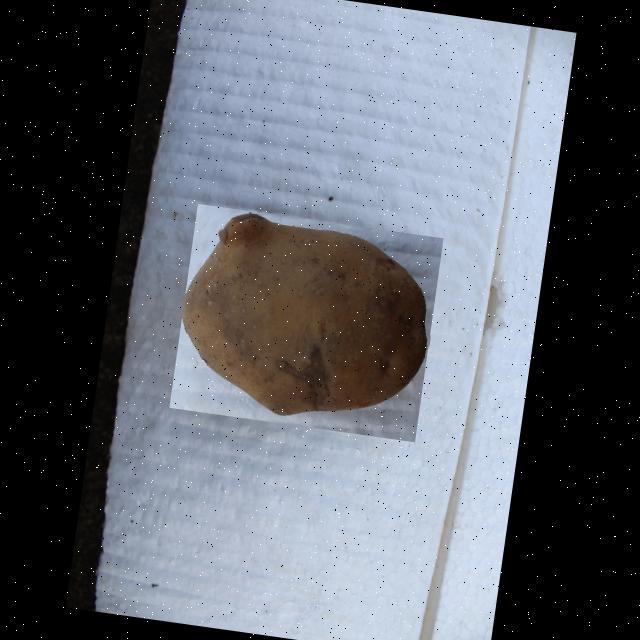Diseased-fungal potato: (168, 203, 442, 442)
